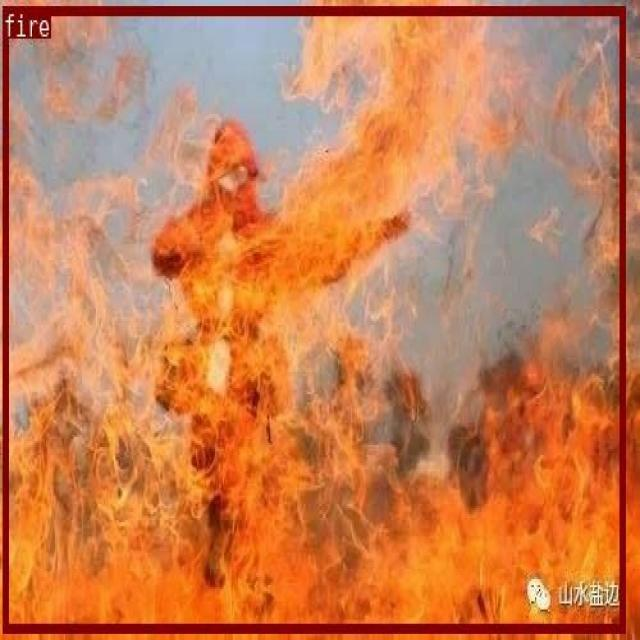fire: (3, 4, 624, 632)
